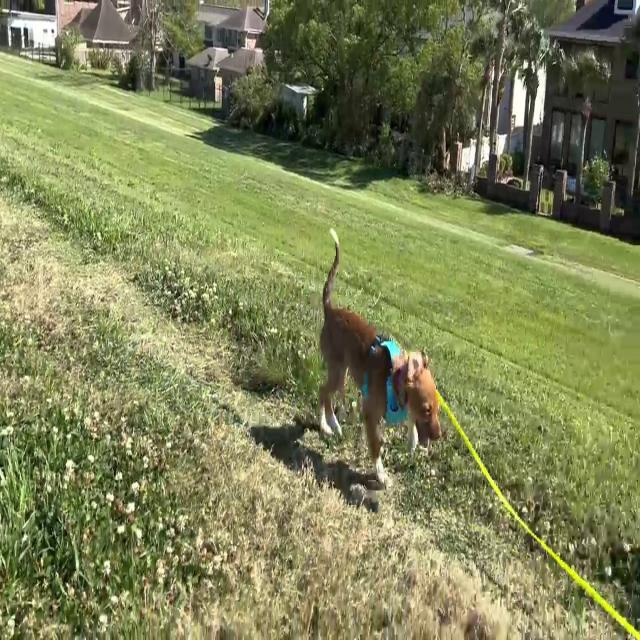Dog: (317, 229, 441, 485)
